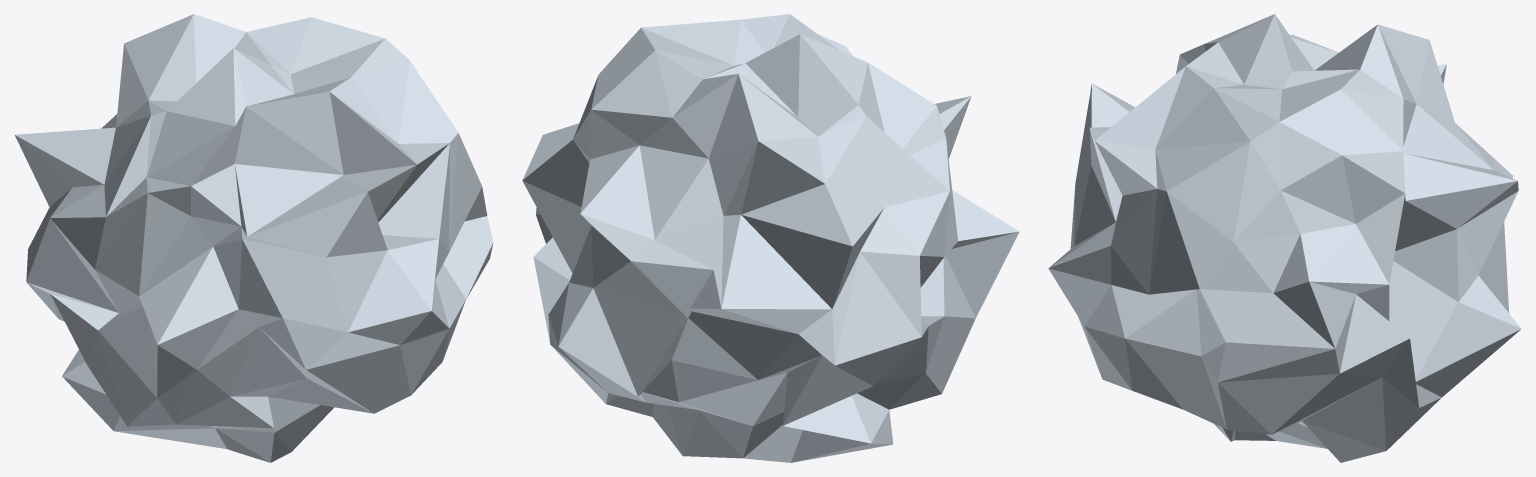
File: kertas_fix.fbx
The picture shows the model from 3 angles, left to right: view 1: azimuth 30°, elevation 25°; view 2: azimuth 150°, elevation 25°; view 3: azimuth 270°, elevation 25°; orthographic projection. The views are drawn at different scales.
Visible parts, largest first — view 1: Icosphere.001; view 2: Icosphere.001; view 3: Icosphere.001.
Boxes of the visible parts, x1=… form: Icosphere.001: x1=15, y1=14, x2=493, y2=462; Icosphere.001: x1=522, y1=14, x2=1019, y2=462; Icosphere.001: x1=1048, y1=14, x2=1521, y2=462.
Bounding box in the file's own units: 224 × 219 × 223.
